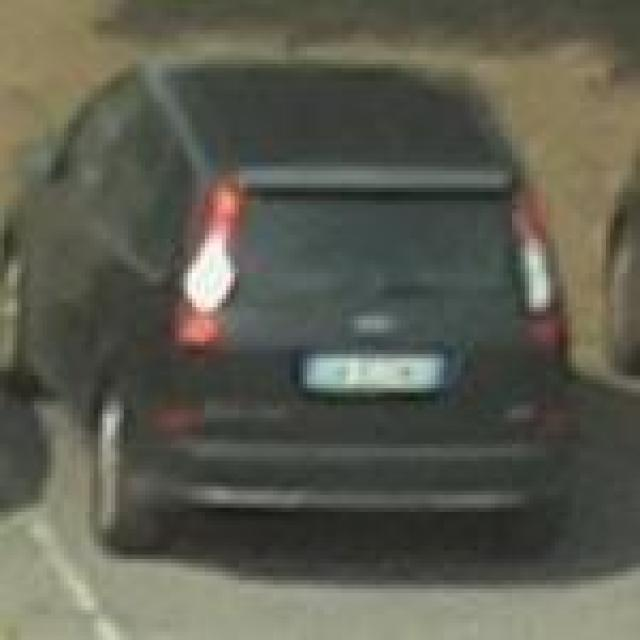cars-sUYr: (0, 34, 597, 588)
